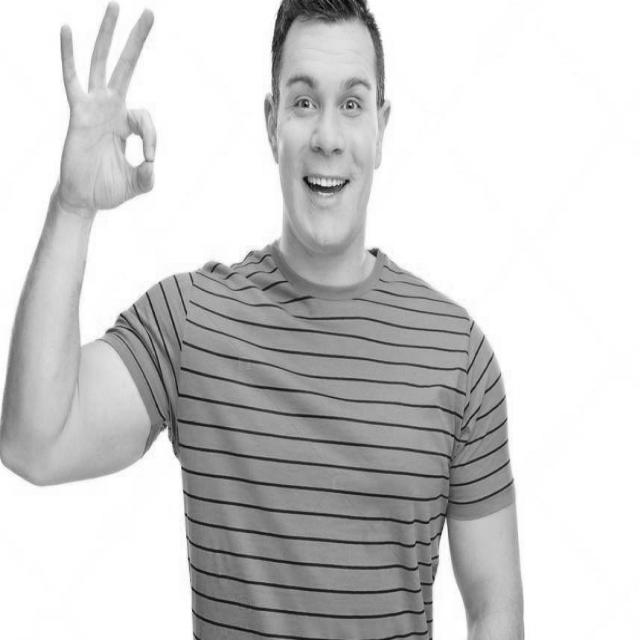perfect: (46, 0, 163, 217)
